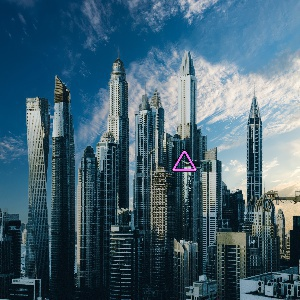triangle: (171, 149, 199, 175)
